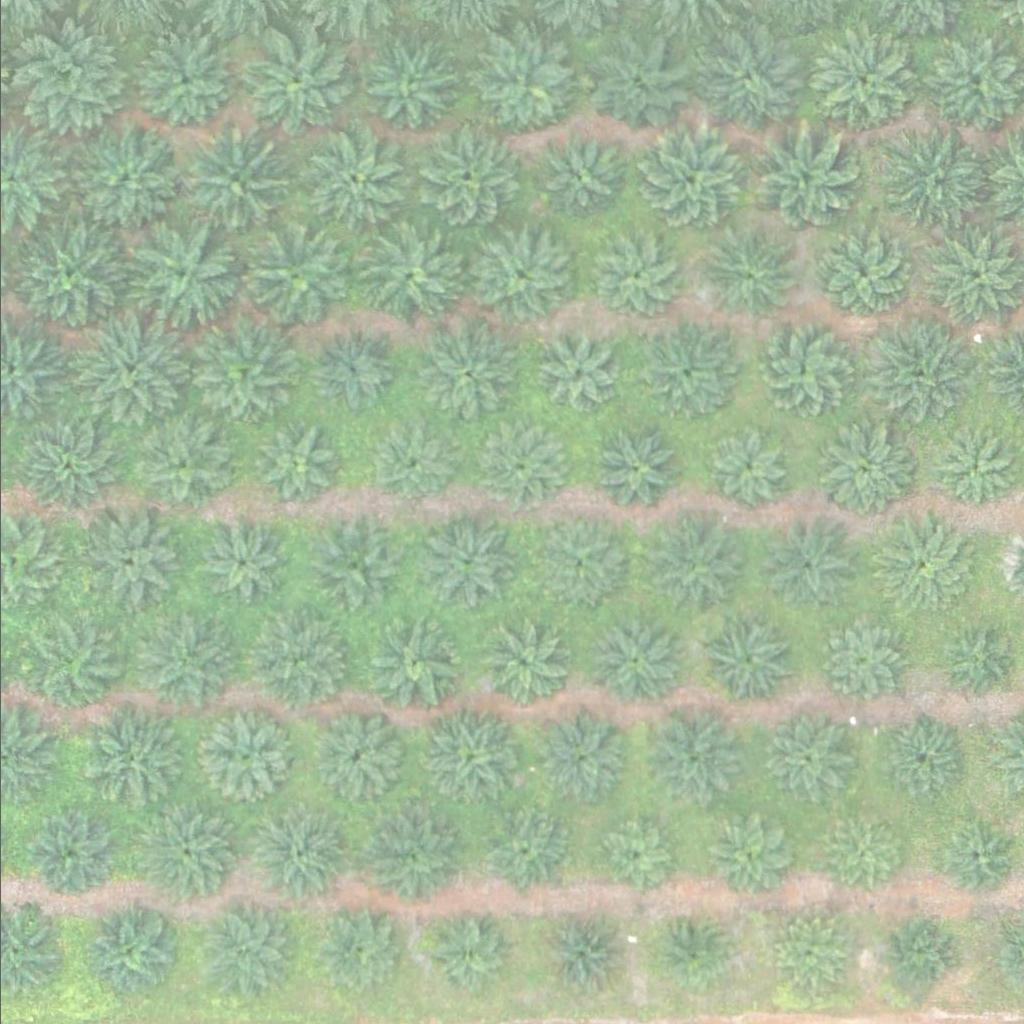Kelapa_Sawit: (876, 129, 990, 242), (745, 123, 858, 236), (635, 125, 748, 238), (12, 24, 125, 137), (125, 217, 238, 330), (73, 315, 186, 428), (860, 316, 974, 428), (238, 29, 351, 141), (299, 124, 412, 236), (172, 131, 285, 243), (66, 124, 179, 236), (7, 224, 120, 336), (873, 520, 974, 620), (639, 703, 740, 803), (808, 608, 909, 708), (698, 608, 799, 708), (758, 514, 859, 614), (417, 327, 518, 427), (698, 225, 799, 325), (470, 226, 571, 326), (353, 226, 454, 326), (416, 130, 517, 230), (811, 29, 912, 129), (699, 26, 800, 126), (583, 35, 684, 135), (473, 36, 574, 136), (359, 33, 460, 133), (133, 35, 234, 135), (305, 517, 406, 617), (252, 612, 353, 712), (131, 617, 232, 717), (192, 708, 293, 808), (81, 707, 182, 807), (247, 810, 348, 910), (136, 803, 237, 903), (77, 902, 178, 1002), (922, 228, 1022, 328), (359, 806, 459, 906), (420, 706, 520, 806), (363, 612, 463, 712), (643, 517, 743, 617), (416, 512, 516, 612), (815, 422, 915, 522), (753, 321, 853, 421), (637, 325, 737, 425), (812, 225, 912, 325), (250, 227, 350, 327), (190, 325, 290, 425), (132, 413, 232, 513), (84, 511, 184, 611), (23, 620, 123, 720), (873, 718, 962, 806), (308, 714, 397, 802), (934, 617, 1022, 705), (416, 908, 504, 996), (479, 811, 567, 899), (760, 713, 848, 801), (535, 712, 623, 800), (698, 425, 786, 513), (534, 134, 622, 222), (195, 519, 283, 607), (25, 808, 113, 896), (707, 809, 795, 896), (535, 912, 623, 999), (587, 617, 675, 704), (476, 620, 564, 707), (527, 520, 615, 607), (535, 332, 623, 419), (591, 234, 679, 321), (24, 425, 112, 512), (315, 908, 403, 995), (200, 908, 288, 995), (936, 432, 1012, 507), (593, 434, 669, 509), (482, 432, 558, 507), (312, 335, 388, 410), (259, 429, 335, 504), (936, 822, 1011, 897), (594, 820, 669, 895), (773, 912, 848, 987), (881, 919, 956, 994), (825, 814, 900, 889), (368, 424, 443, 499), (662, 917, 725, 980)
